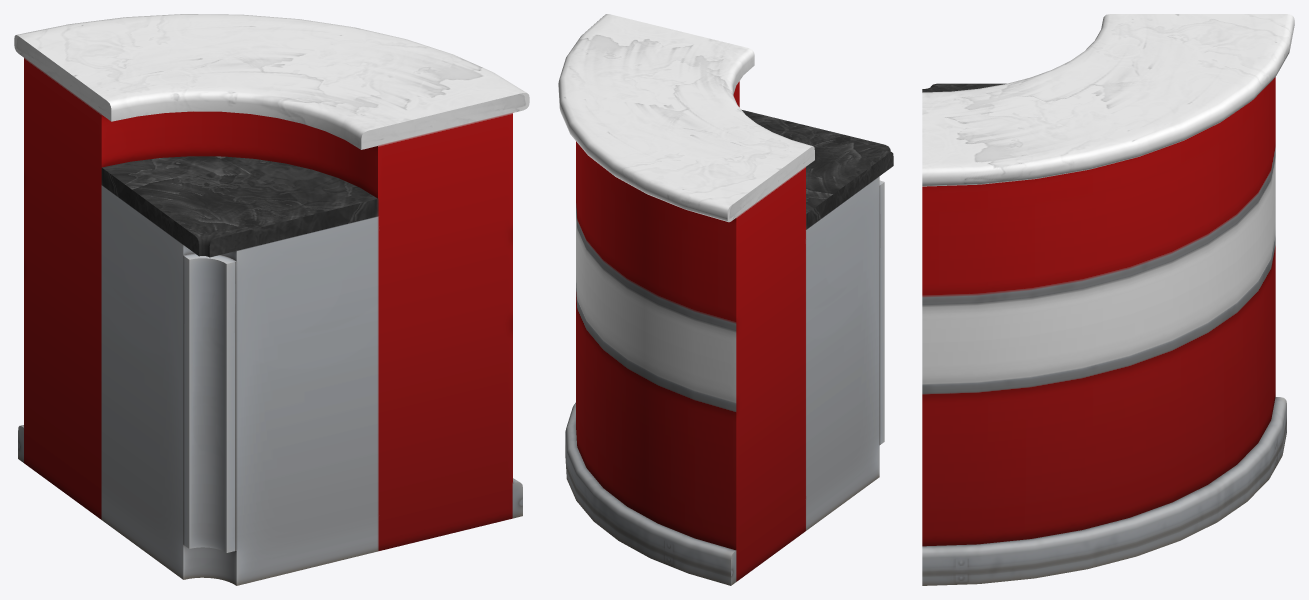
The model's file is CafeBarStand01_2.FBX.
3 views of the same model, side by side, from view 1: azimuth 30°, elevation 25°; view 2: azimuth 150°, elevation 25°; view 3: azimuth 270°, elevation 25° (orthographic). The views are drawn at different scales.
Visible parts, largest first — view 1: CafeBarStand01_2; view 2: CafeBarStand01_2; view 3: CafeBarStand01_2.
Boxes of the visible parts, x1,y1,x2,y2 form: CafeBarStand01_2: (14, 14, 529, 585); CafeBarStand01_2: (558, 14, 893, 585); CafeBarStand01_2: (922, 14, 1294, 585).
Size of what is drawn, in the model's own units: 0.97 by 1.2 by 0.97.
